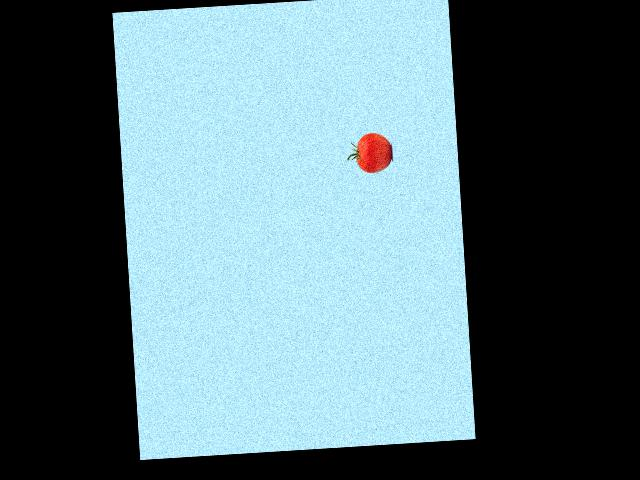tomato: (355, 131, 392, 173)
